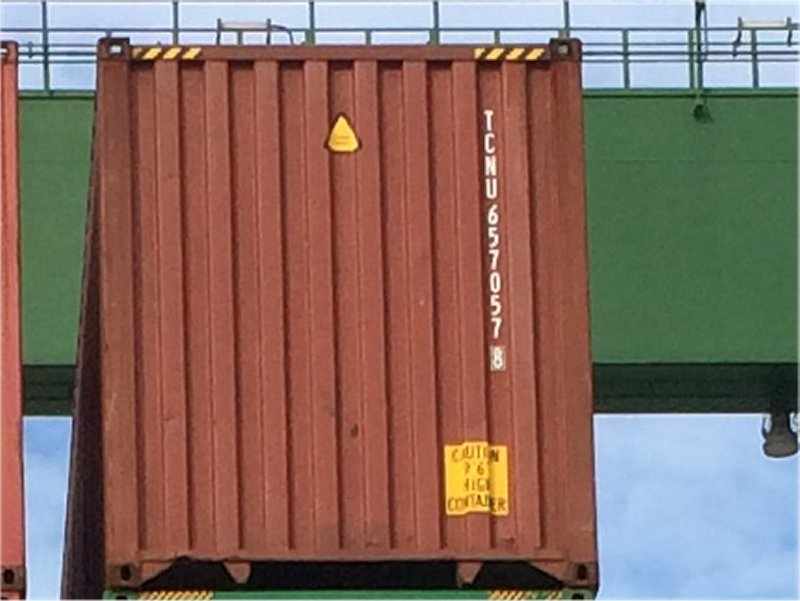container_no_door: (94, 37, 599, 587)
